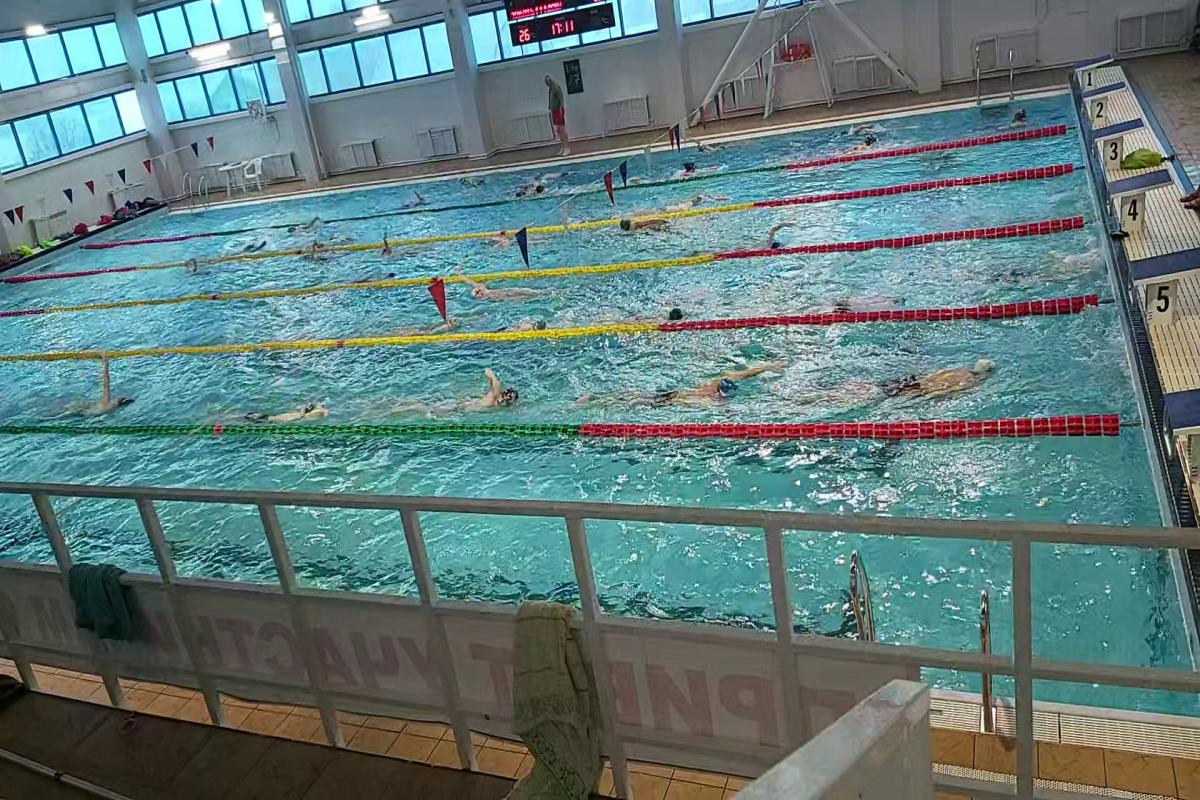swimmer: (833, 350, 1019, 422), (581, 364, 777, 424), (390, 365, 529, 421), (54, 353, 143, 420), (215, 386, 338, 424), (802, 285, 918, 311), (462, 276, 554, 301), (393, 305, 466, 336), (612, 209, 679, 242), (747, 221, 807, 248), (663, 188, 736, 208), (373, 230, 416, 262), (499, 309, 559, 330), (294, 239, 337, 268), (480, 228, 519, 253)
